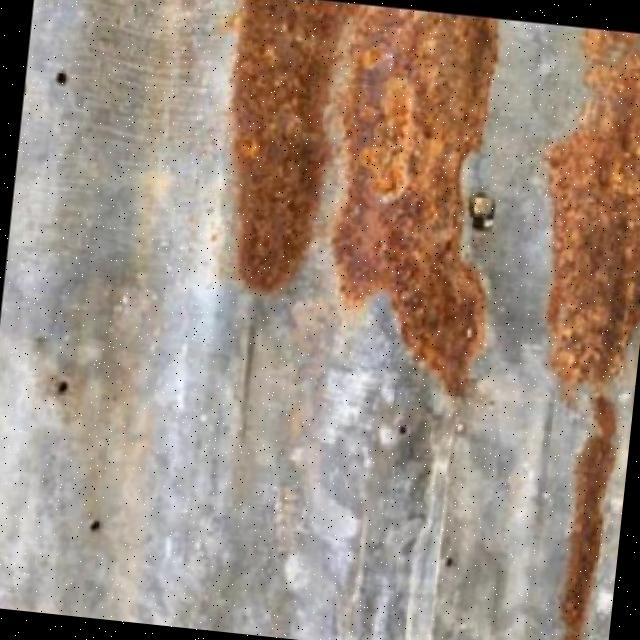Corrosion: (0, 0, 640, 640), (196, 0, 519, 400), (489, 23, 640, 640), (204, 0, 348, 299)
